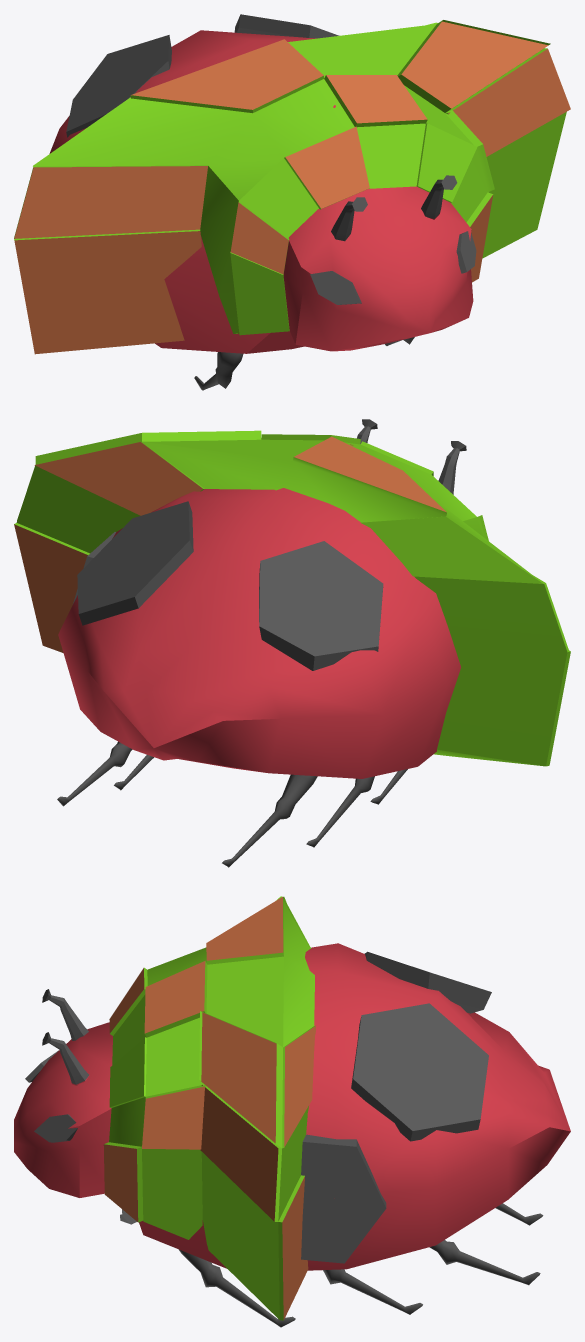
File: Marienkäfer.fbx
3 views of the same model, one above another, from view 1: azimuth 30°, elevation 25°; view 2: azimuth 150°, elevation 25°; view 3: azimuth 270°, elevation 25° (orthographic).
Visible parts, largest first — view 1: Cylinder.004, Cylinder.001, Cylinder.005, Cylinder.002; view 2: Cylinder.001, Cylinder.004, Cylinder.005, Cylinder.002; view 3: Cylinder.004, Cylinder.001, Cylinder.005, Cylinder.002.
Part boxes in pixels (x1=…): Cylinder.004: x1=14, y1=20, x2=570, y2=354; Cylinder.001: x1=49, y1=30, x2=473, y2=353; Cylinder.005: x1=66, y1=14, x2=476, y2=304; Cylinder.002: x1=194, y1=337, x2=414, y2=390; Cylinder.001: x1=58, y1=419, x2=466, y2=778; Cylinder.004: x1=14, y1=430, x2=570, y2=766; Cylinder.005: x1=73, y1=501, x2=383, y2=670; Cylinder.002: x1=57, y1=741, x2=407, y2=867; Cylinder.004: x1=103, y1=896, x2=315, y2=1320; Cylinder.001: x1=14, y1=943, x2=570, y2=1270; Cylinder.005: x1=25, y1=951, x2=491, y2=1263; Cylinder.002: x1=120, y1=1203, x2=543, y2=1327.
Size of the model in its own units: 168 by 95.78 by 148.
